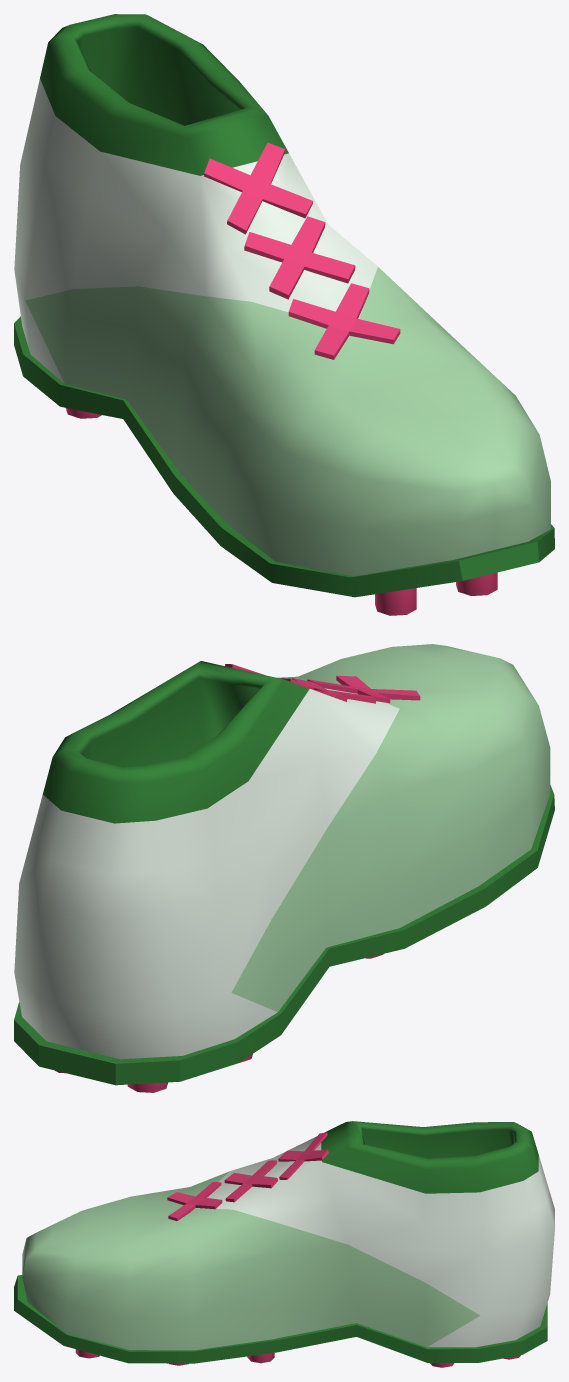
The model's file is football_shoe.fbx.
3 views of the same model, one above another, from view 1: azimuth 30°, elevation 25°; view 2: azimuth 150°, elevation 25°; view 3: azimuth 270°, elevation 25° (orthographic). The views are drawn at different scales.
Parts seen in each view (by area): view 1: football_shoe; view 2: football_shoe; view 3: football_shoe.
Part boxes in pixels (x1,y1,x2,y2): football_shoe: [14, 14, 554, 615]; football_shoe: [14, 644, 554, 1092]; football_shoe: [14, 1121, 554, 1367].
Size of the model in its own units: 5.27 by 6.3 by 14.99.
